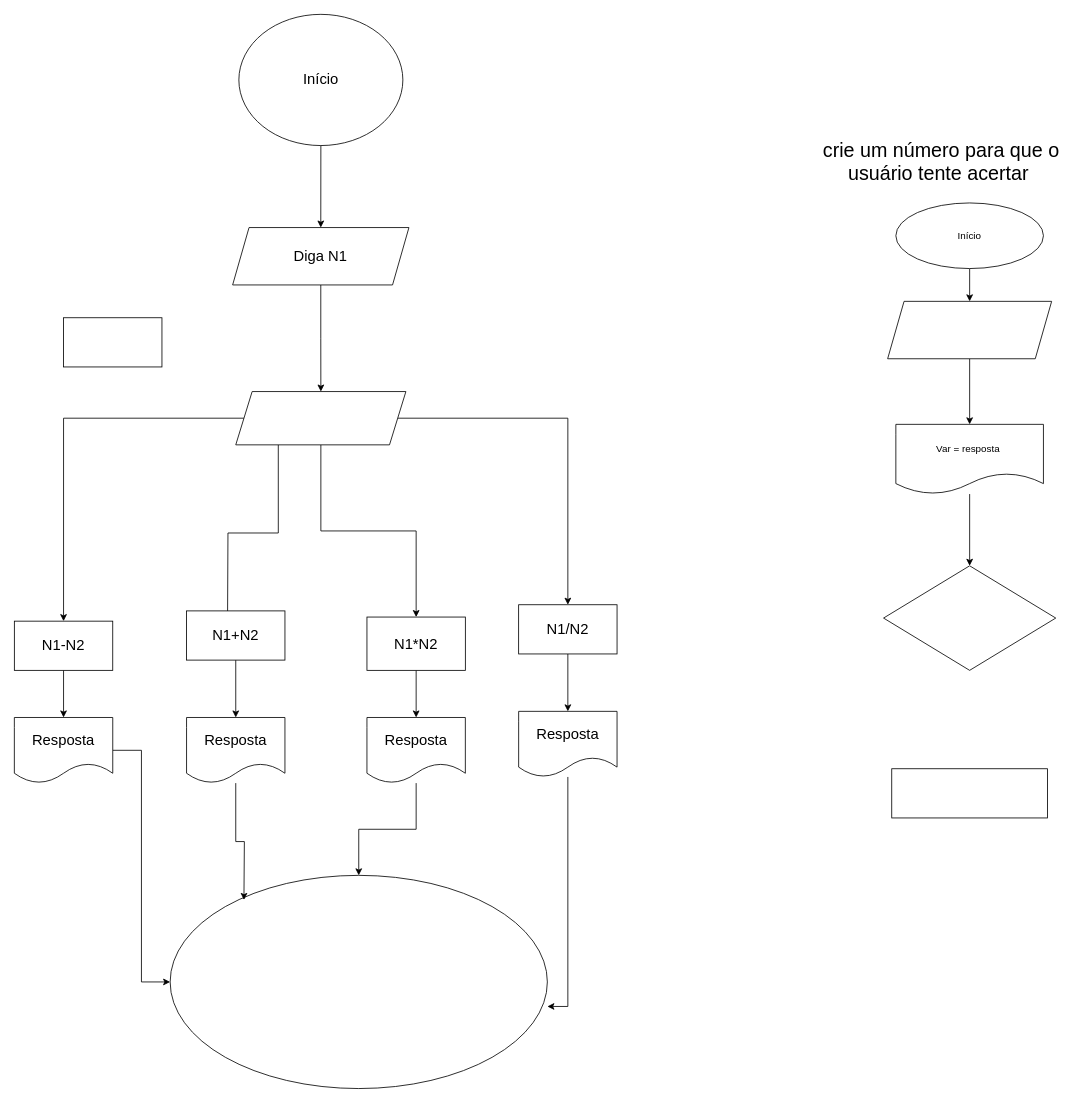
Some shapes in this 1078 by 1103 pixel diagram are drawn without their labels. Each missing label, with the centre of its shape:
"criar uma condição SE (resposta = 13) diga: Certa resposta" goes at point (969, 617).
"Diga N2" goes at point (320, 418).
"Fim" goes at point (358, 982).
"Operadores" goes at point (112, 342).
"Pergunta" goes at point (969, 330).
"SENÃO diga :resposta errada" goes at point (969, 793).
